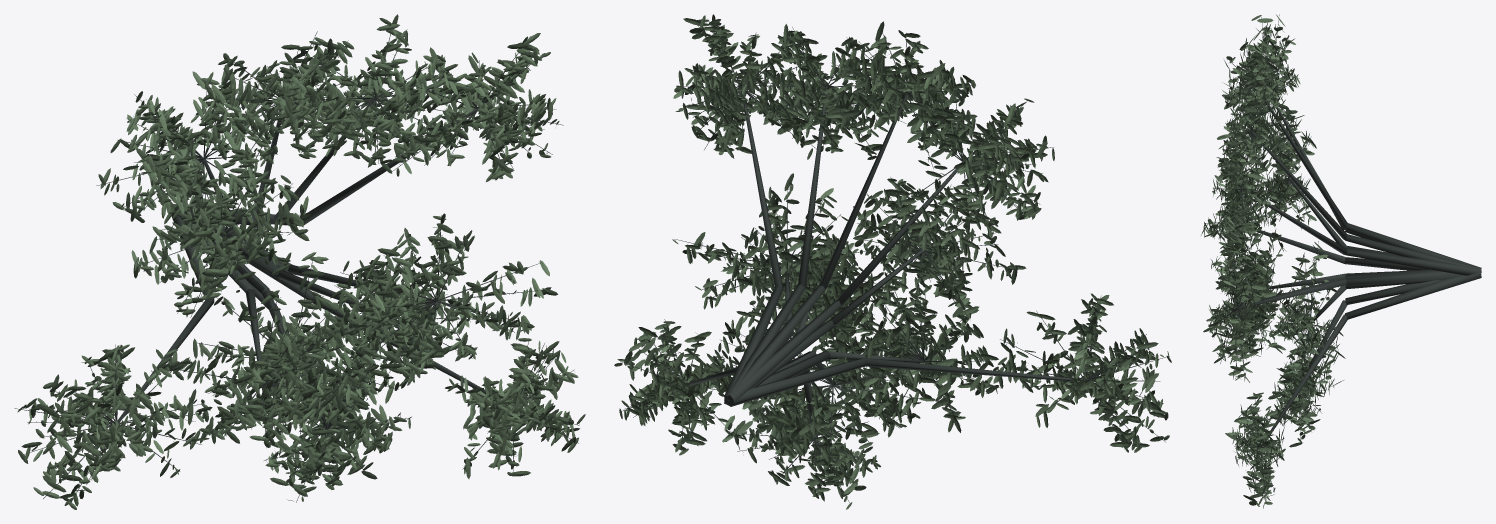
The model's file is tree_m4.obj.
The picture shows the model from 3 angles, left to right: view 1: azimuth 30°, elevation 25°; view 2: azimuth 150°, elevation 25°; view 3: azimuth 270°, elevation 25°; orthographic projection. The views are drawn at different scales.
Bounding box in the file's own units: 1.82 × 1.51 × 1.02.
1 material, 1 textured.
